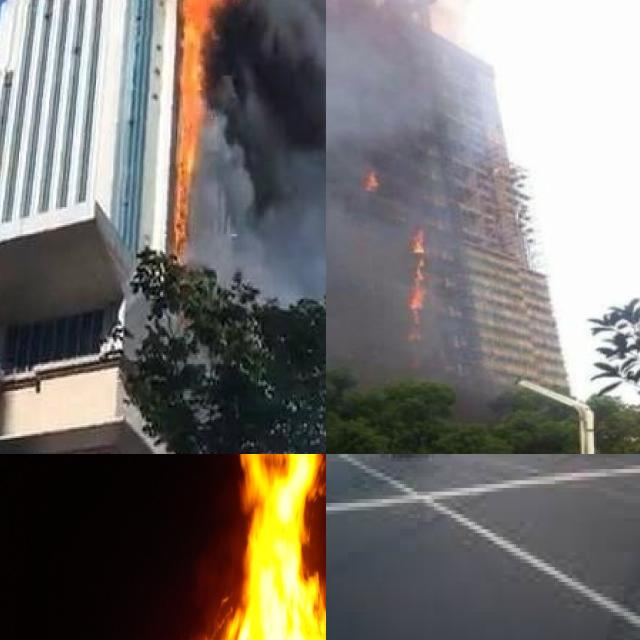fire: (148, 454, 326, 640), (174, 0, 245, 273), (400, 224, 432, 338), (356, 166, 378, 194)
smoke: (326, 0, 477, 371), (209, 0, 326, 301)
